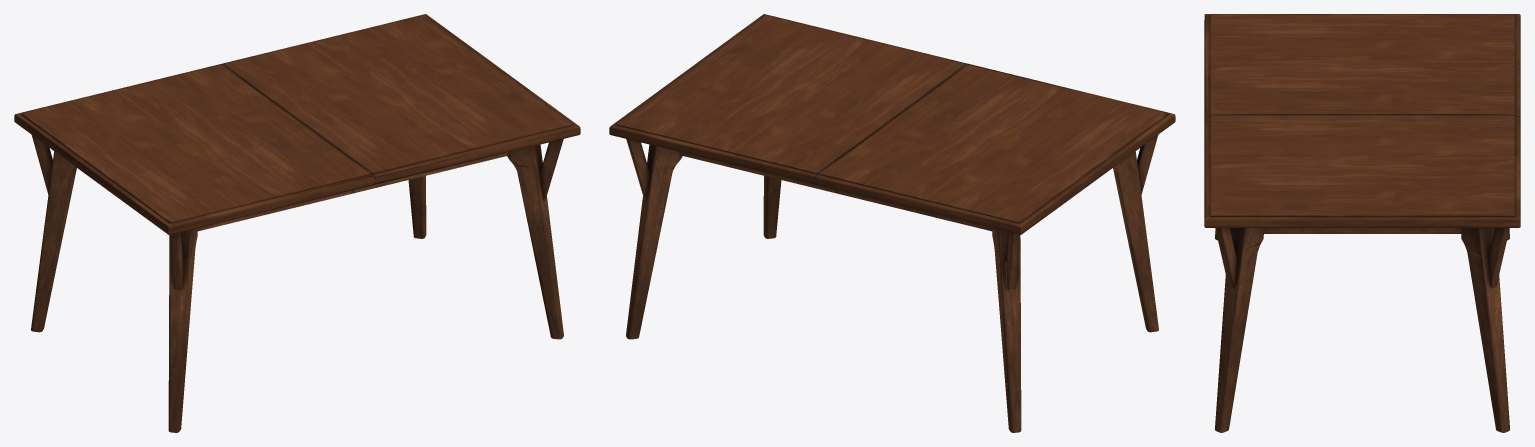
The model's file is B07B86VTX4.glb.
3 views of the same model, side by side, from view 1: azimuth 30°, elevation 25°; view 2: azimuth 150°, elevation 25°; view 3: azimuth 270°, elevation 25° (orthographic). The views are drawn at different scales.
Visible parts, largest first — view 1: RootNode; view 2: RootNode; view 3: RootNode.
Boxes of the visible parts, x1=… form: RootNode: x1=14, y1=14, x2=580, y2=432; RootNode: x1=609, y1=14, x2=1175, y2=432; RootNode: x1=1204, y1=14, x2=1520, y2=432.
Size of the model in its own units: 1.52 by 0.7608 by 0.9899.
Materials: 1 (1 with a texture image).
